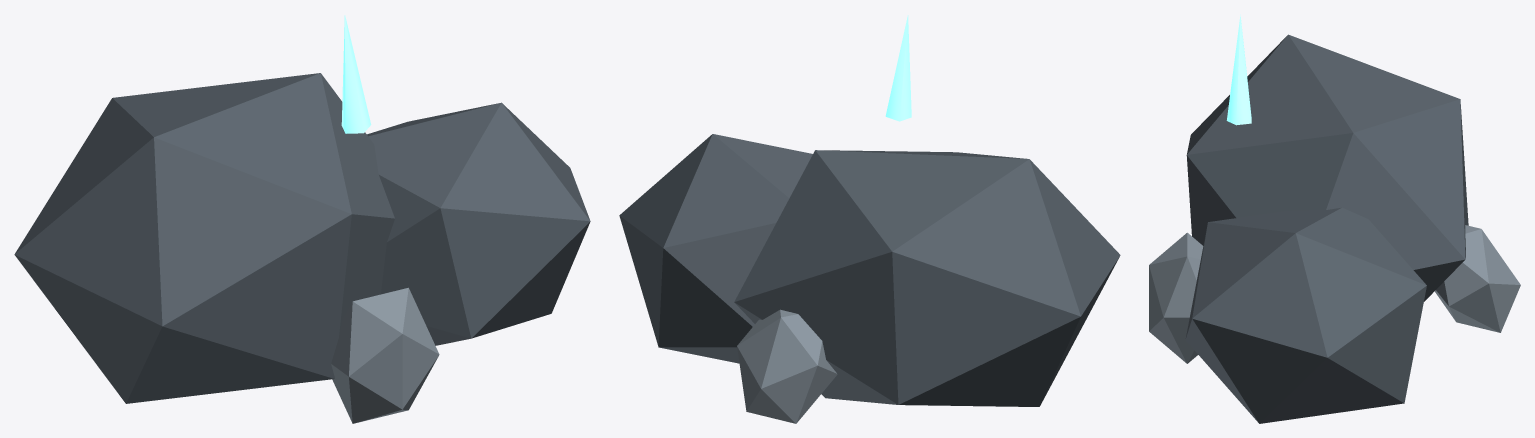
The model's file is commit-ridge-lod2.glb.
The picture shows the model from 3 angles, left to right: view 1: azimuth 30°, elevation 25°; view 2: azimuth 150°, elevation 25°; view 3: azimuth 270°, elevation 25°; orthographic projection. The views are drawn at different scales.
Parts seen in each view (by area): view 1: MESH_commit_ridge_rock, MESH_commit_ridge_rockLight, MESH_commit_ridge_crystal; view 2: MESH_commit_ridge_rock, MESH_commit_ridge_rockLight, MESH_commit_ridge_crystal; view 3: MESH_commit_ridge_rock, MESH_commit_ridge_rockLight, MESH_commit_ridge_crystal.
Part boxes in pixels (<box>): MESH_commit_ridge_rock: <box>14,73,590,403</box>; MESH_commit_ridge_rockLight: <box>331,287,439,423</box>; MESH_commit_ridge_crystal: <box>341,15,371,133</box>; MESH_commit_ridge_rock: <box>619,134,1120,406</box>; MESH_commit_ridge_rockLight: <box>737,309,837,423</box>; MESH_commit_ridge_crystal: <box>885,15,911,121</box>; MESH_commit_ridge_rock: <box>1185,34,1468,423</box>; MESH_commit_ridge_rockLight: <box>1149,225,1520,363</box>; MESH_commit_ridge_crystal: <box>1226,14,1251,125</box>.
Size of the model in its own units: 8.71 by 6.1 by 5.94.
